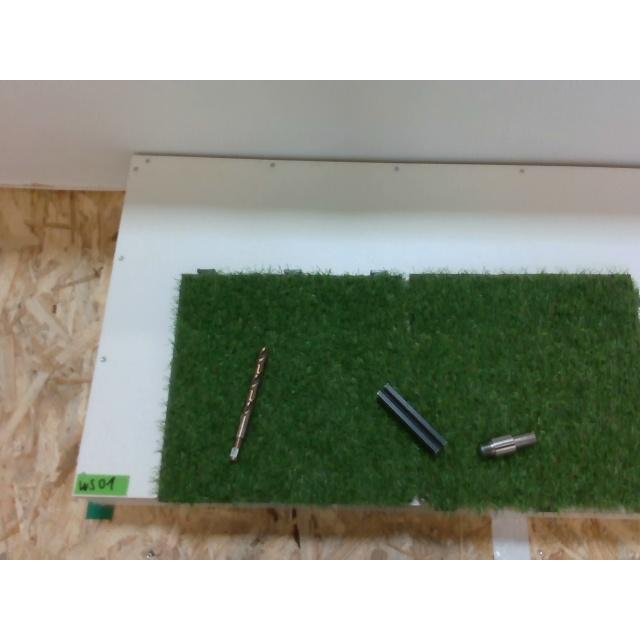Axis2: (479, 432, 536, 456)
Drill: (230, 346, 270, 462)
F20_20_B: (378, 384, 447, 454)
